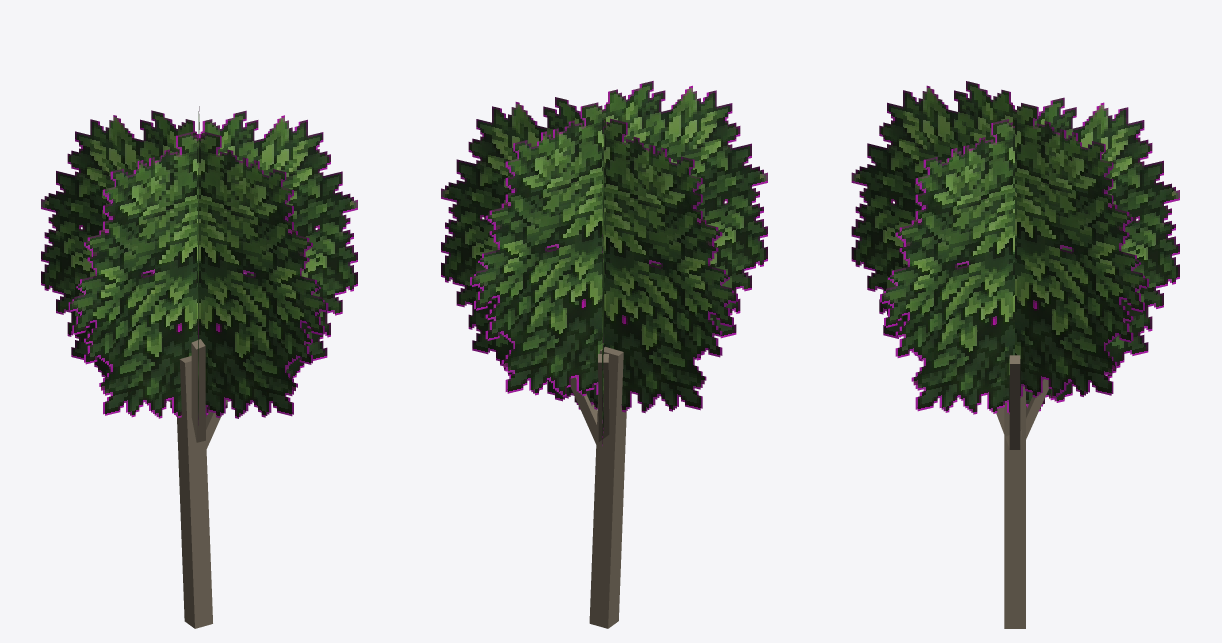
Rendered from city_tree_1.glb.
The picture shows the model from 3 angles, left to right: view 1: azimuth 30°, elevation 25°; view 2: azimuth 150°, elevation 25°; view 3: azimuth 270°, elevation 25°; orthographic projection. The views are drawn at different scales.
Visible parts, largest first — view 1: city_tree_1; view 2: city_tree_1; view 3: city_tree_1.
Part boxes in pixels (left/top/right/bottom): city_tree_1: left=41, top=106, right=357, bottom=628; city_tree_1: left=441, top=81, right=767, bottom=628; city_tree_1: left=851, top=81, right=1179, bottom=628.
Bounding box in the file's own units: 3.2 × 5.15 × 3.21.
Materials: 2 (1 with a texture image).
